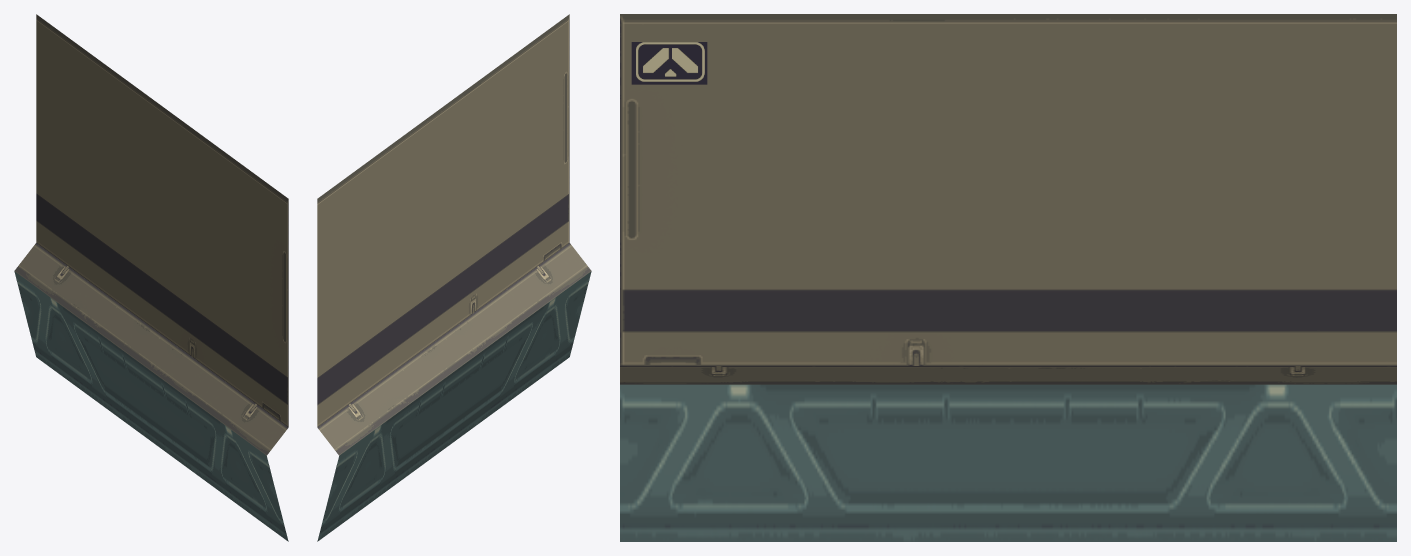
File: ShopWall.gltf
3 views of the same model, side by side, from view 1: azimuth 30°, elevation 25°; view 2: azimuth 150°, elevation 25°; view 3: azimuth 270°, elevation 25° (orthographic). The views are drawn at different scales.
Visible parts, largest first — view 1: WallBand_Straight; view 2: WallBand_Straight; view 3: WallBand_Straight.
Boxes of the visible parts, box(x1,y1,x2,y2) form: WallBand_Straight: box(14, 14, 288, 541); WallBand_Straight: box(317, 14, 591, 541); WallBand_Straight: box(620, 14, 1396, 541).
Size of the model in its own units: 0.2075 by 3 by 4.
Materials: 3 (3 with a texture image).
